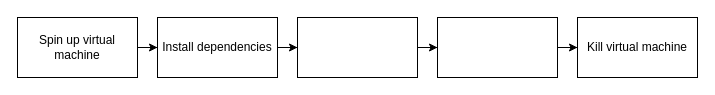
Some shapes in this 715 by 95 pixel diagram are drawn without their labels. The box of each missing label's shape, as (x1, y1, x2, y2) in pixels:
Run pipeline jobs: (296, 16, 418, 78)
Save outputs: (436, 16, 558, 78)
